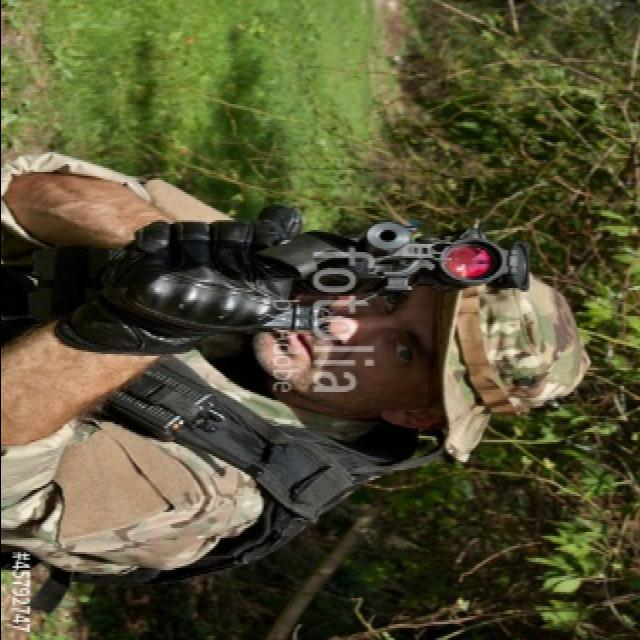rifle: (146, 205, 540, 341)
